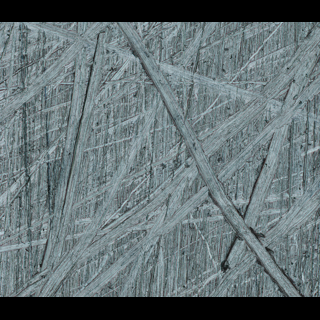d: (2, 22, 317, 296)
